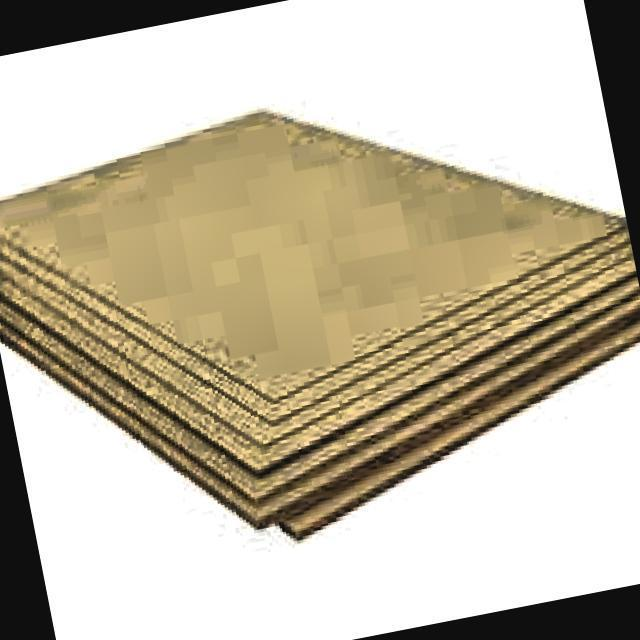cardboard: (0, 38, 640, 592)
